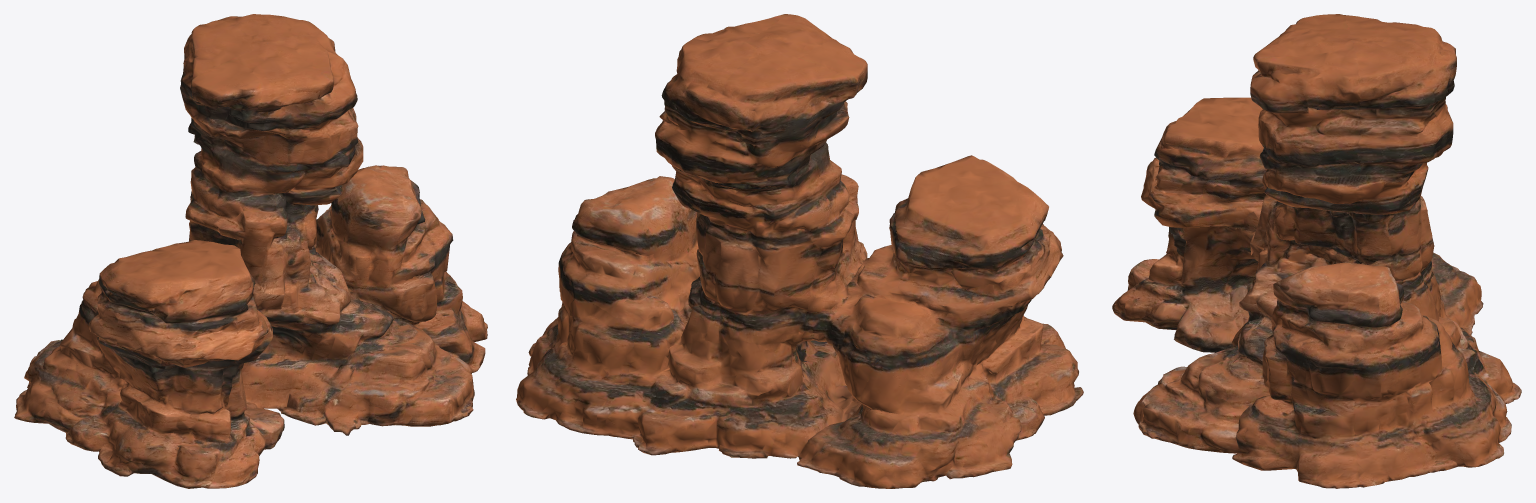
File: 09_Red_Rock_Arch.glb
3 views of the same model, side by side, from view 1: azimuth 30°, elevation 25°; view 2: azimuth 150°, elevation 25°; view 3: azimuth 270°, elevation 25° (orthographic). The views are drawn at different scales.
Bounding box in the file's own units: 1.89 × 1.31 × 1.42.
Materials: 1 (1 with a texture image).
